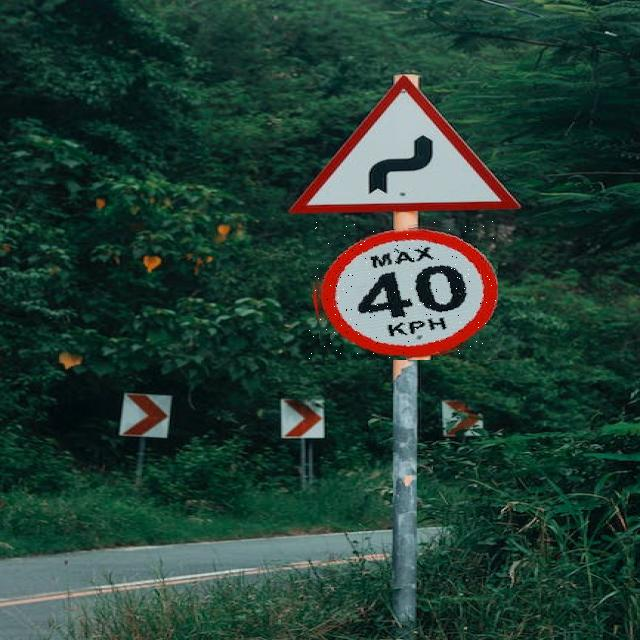speed limit 40: (309, 221, 498, 360)
